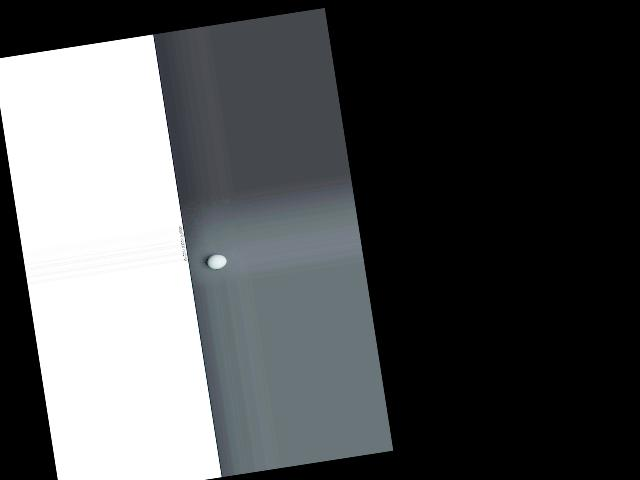egg: (206, 252, 227, 270)
